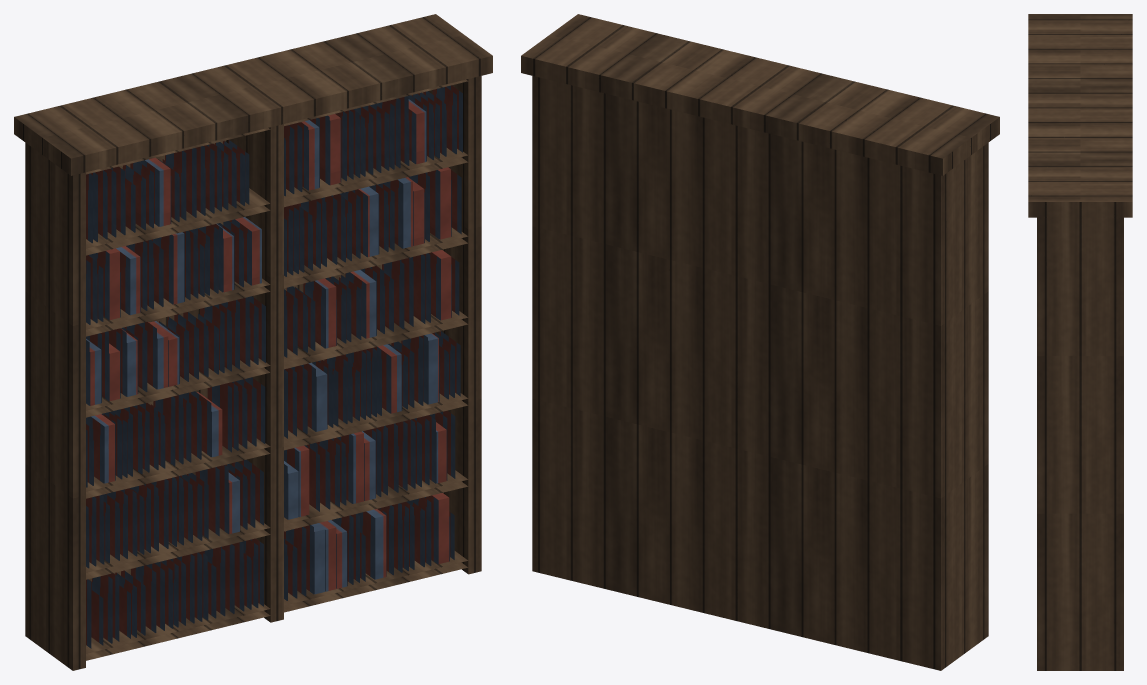
The model's file is Bookcase_Tall_1.gltf.
3 views of the same model, side by side, from view 1: azimuth 30°, elevation 25°; view 2: azimuth 150°, elevation 25°; view 3: azimuth 270°, elevation 25° (orthographic). The views are drawn at different scales.
Visible parts, largest first — view 1: Bookcase_Tall_1; view 2: Bookcase_Tall_1; view 3: Bookcase_Tall_1.
Part boxes in pixels (x1=…): Bookcase_Tall_1: x1=14, y1=14, x2=492, y2=670; Bookcase_Tall_1: x1=521, y1=14, x2=999, y2=670; Bookcase_Tall_1: x1=1028, y1=14, x2=1132, y2=670.
Size of the model in its own units: 2.56 by 3 by 0.6.
2 materials, 2 textured.
